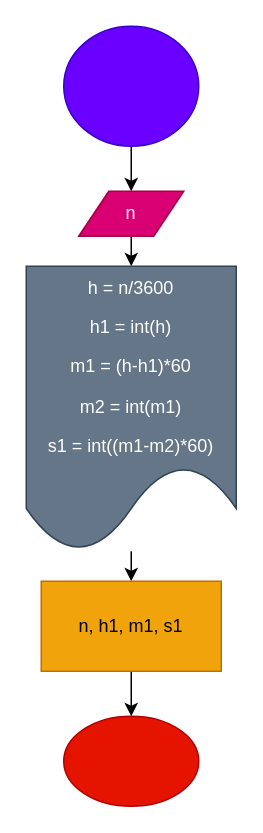
Some shapes in this 263 by 833 pixel diagram are drawn without their labels. The box of each missing label's shape, as (x1, y1, x2, y2) in pixels:
FIN: (62, 715, 199, 806)
INICIO: (62, 25, 199, 146)
